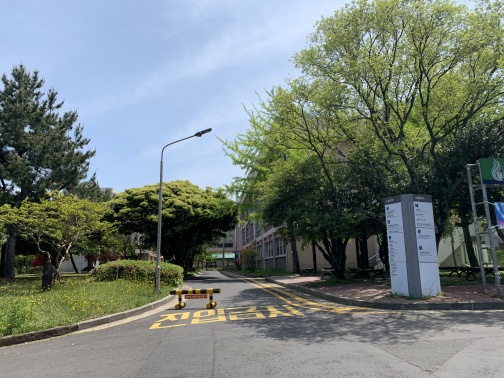College Of Education: (201, 112, 398, 283)
